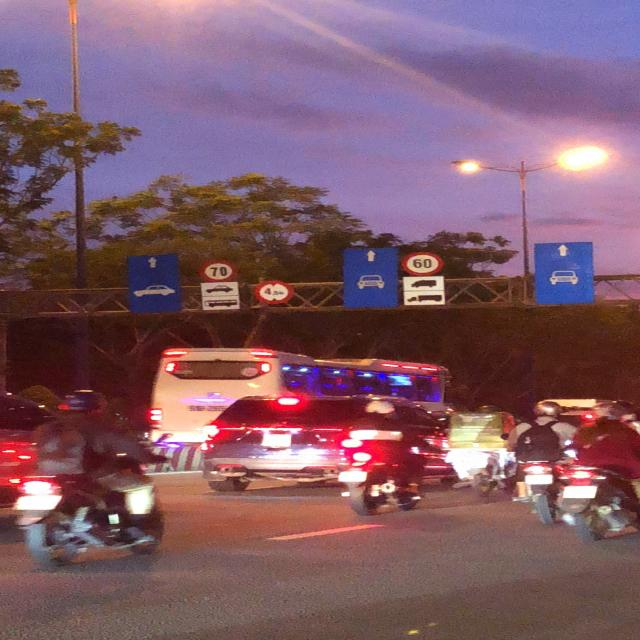Bien bao han che chieu cao: (252, 279, 296, 306)
Bien bao toc do toi da cho phep: (398, 250, 447, 276), (196, 259, 239, 282)
